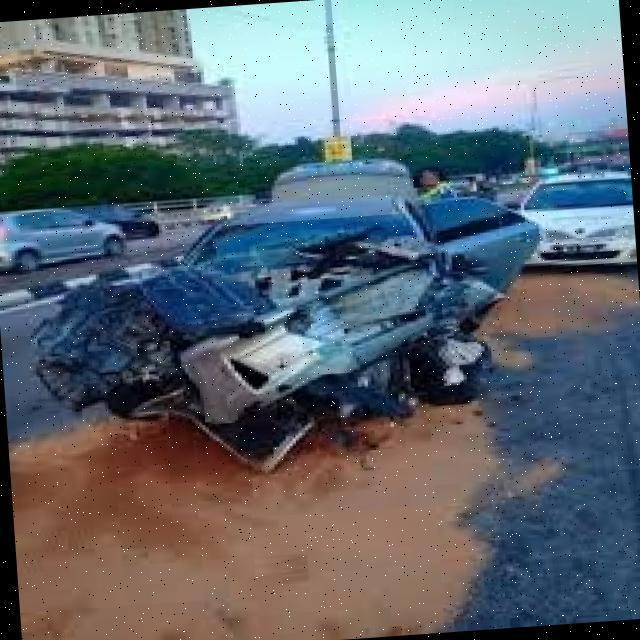accident: (21, 165, 545, 483)
